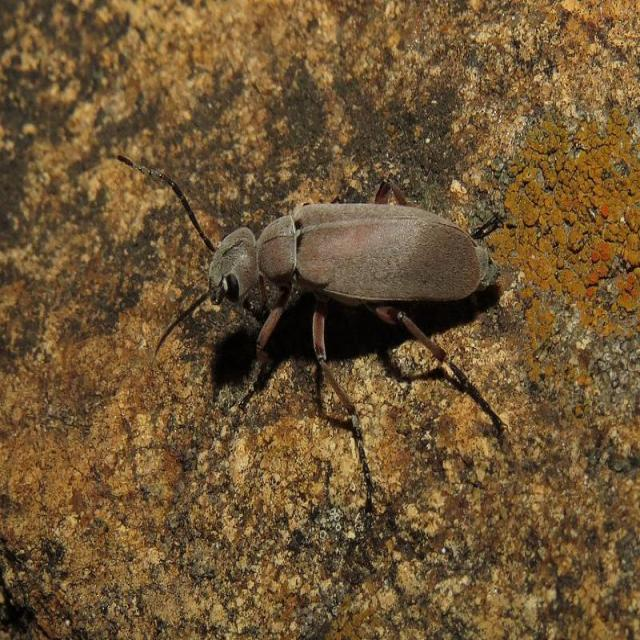BlisterBeetle-Adult-: (108, 138, 521, 454)
